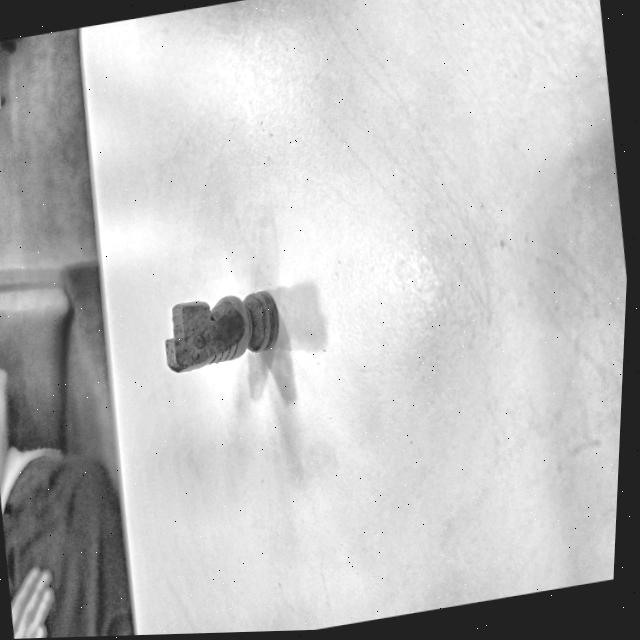black-knight: (164, 292, 278, 374)
